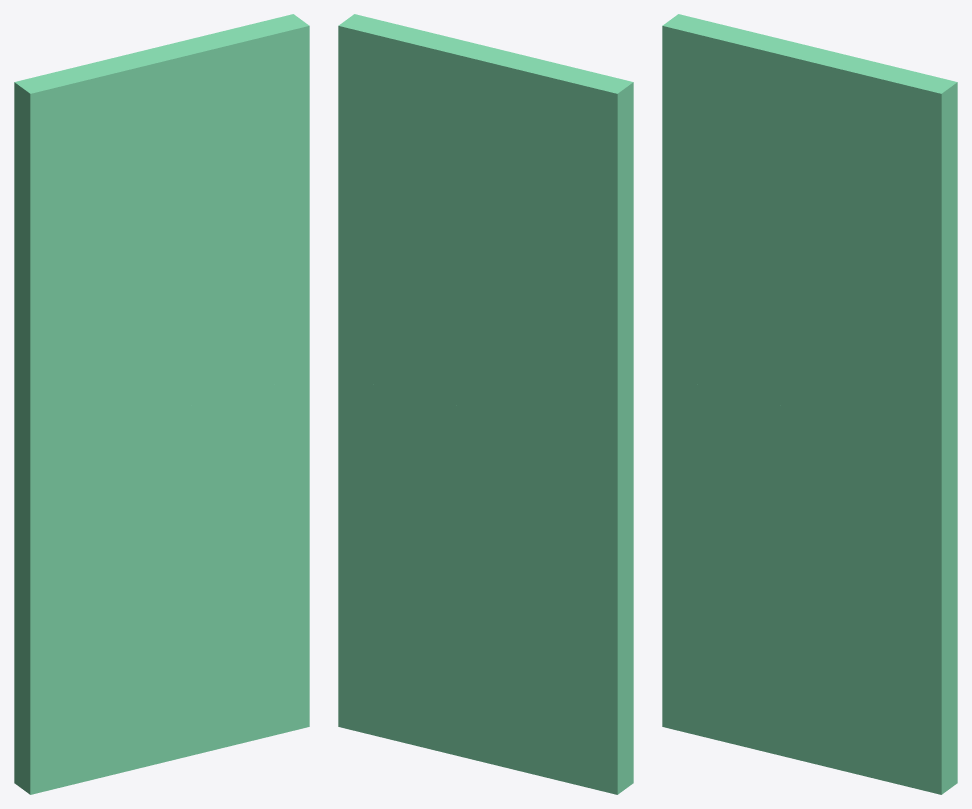
File: wall_stairs.FBX
The picture shows the model from 3 angles, left to right: view 1: azimuth 30°, elevation 25°; view 2: azimuth 150°, elevation 25°; view 3: azimuth 330°, elevation 25°; orthographic projection.
Parts seen in each view (by area): view 1: wall_stairs; view 2: wall_stairs; view 3: wall_stairs.
Boxes of the visible parts, bbox=[...] form: wall_stairs: bbox=[14, 14, 309, 794]; wall_stairs: bbox=[338, 14, 633, 794]; wall_stairs: bbox=[662, 14, 957, 794].
Size of what is drawn, in the model's own units: 500 by 50 by 1200.
